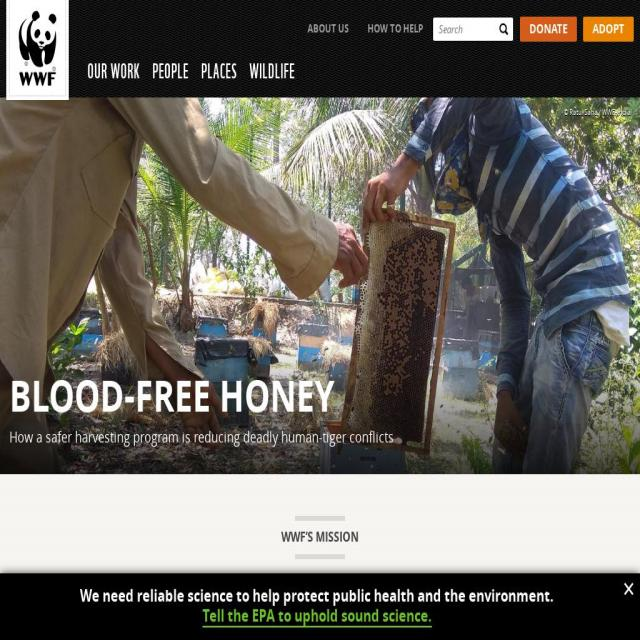navigation-links: (79, 13, 428, 90)
search: (433, 13, 515, 47)
